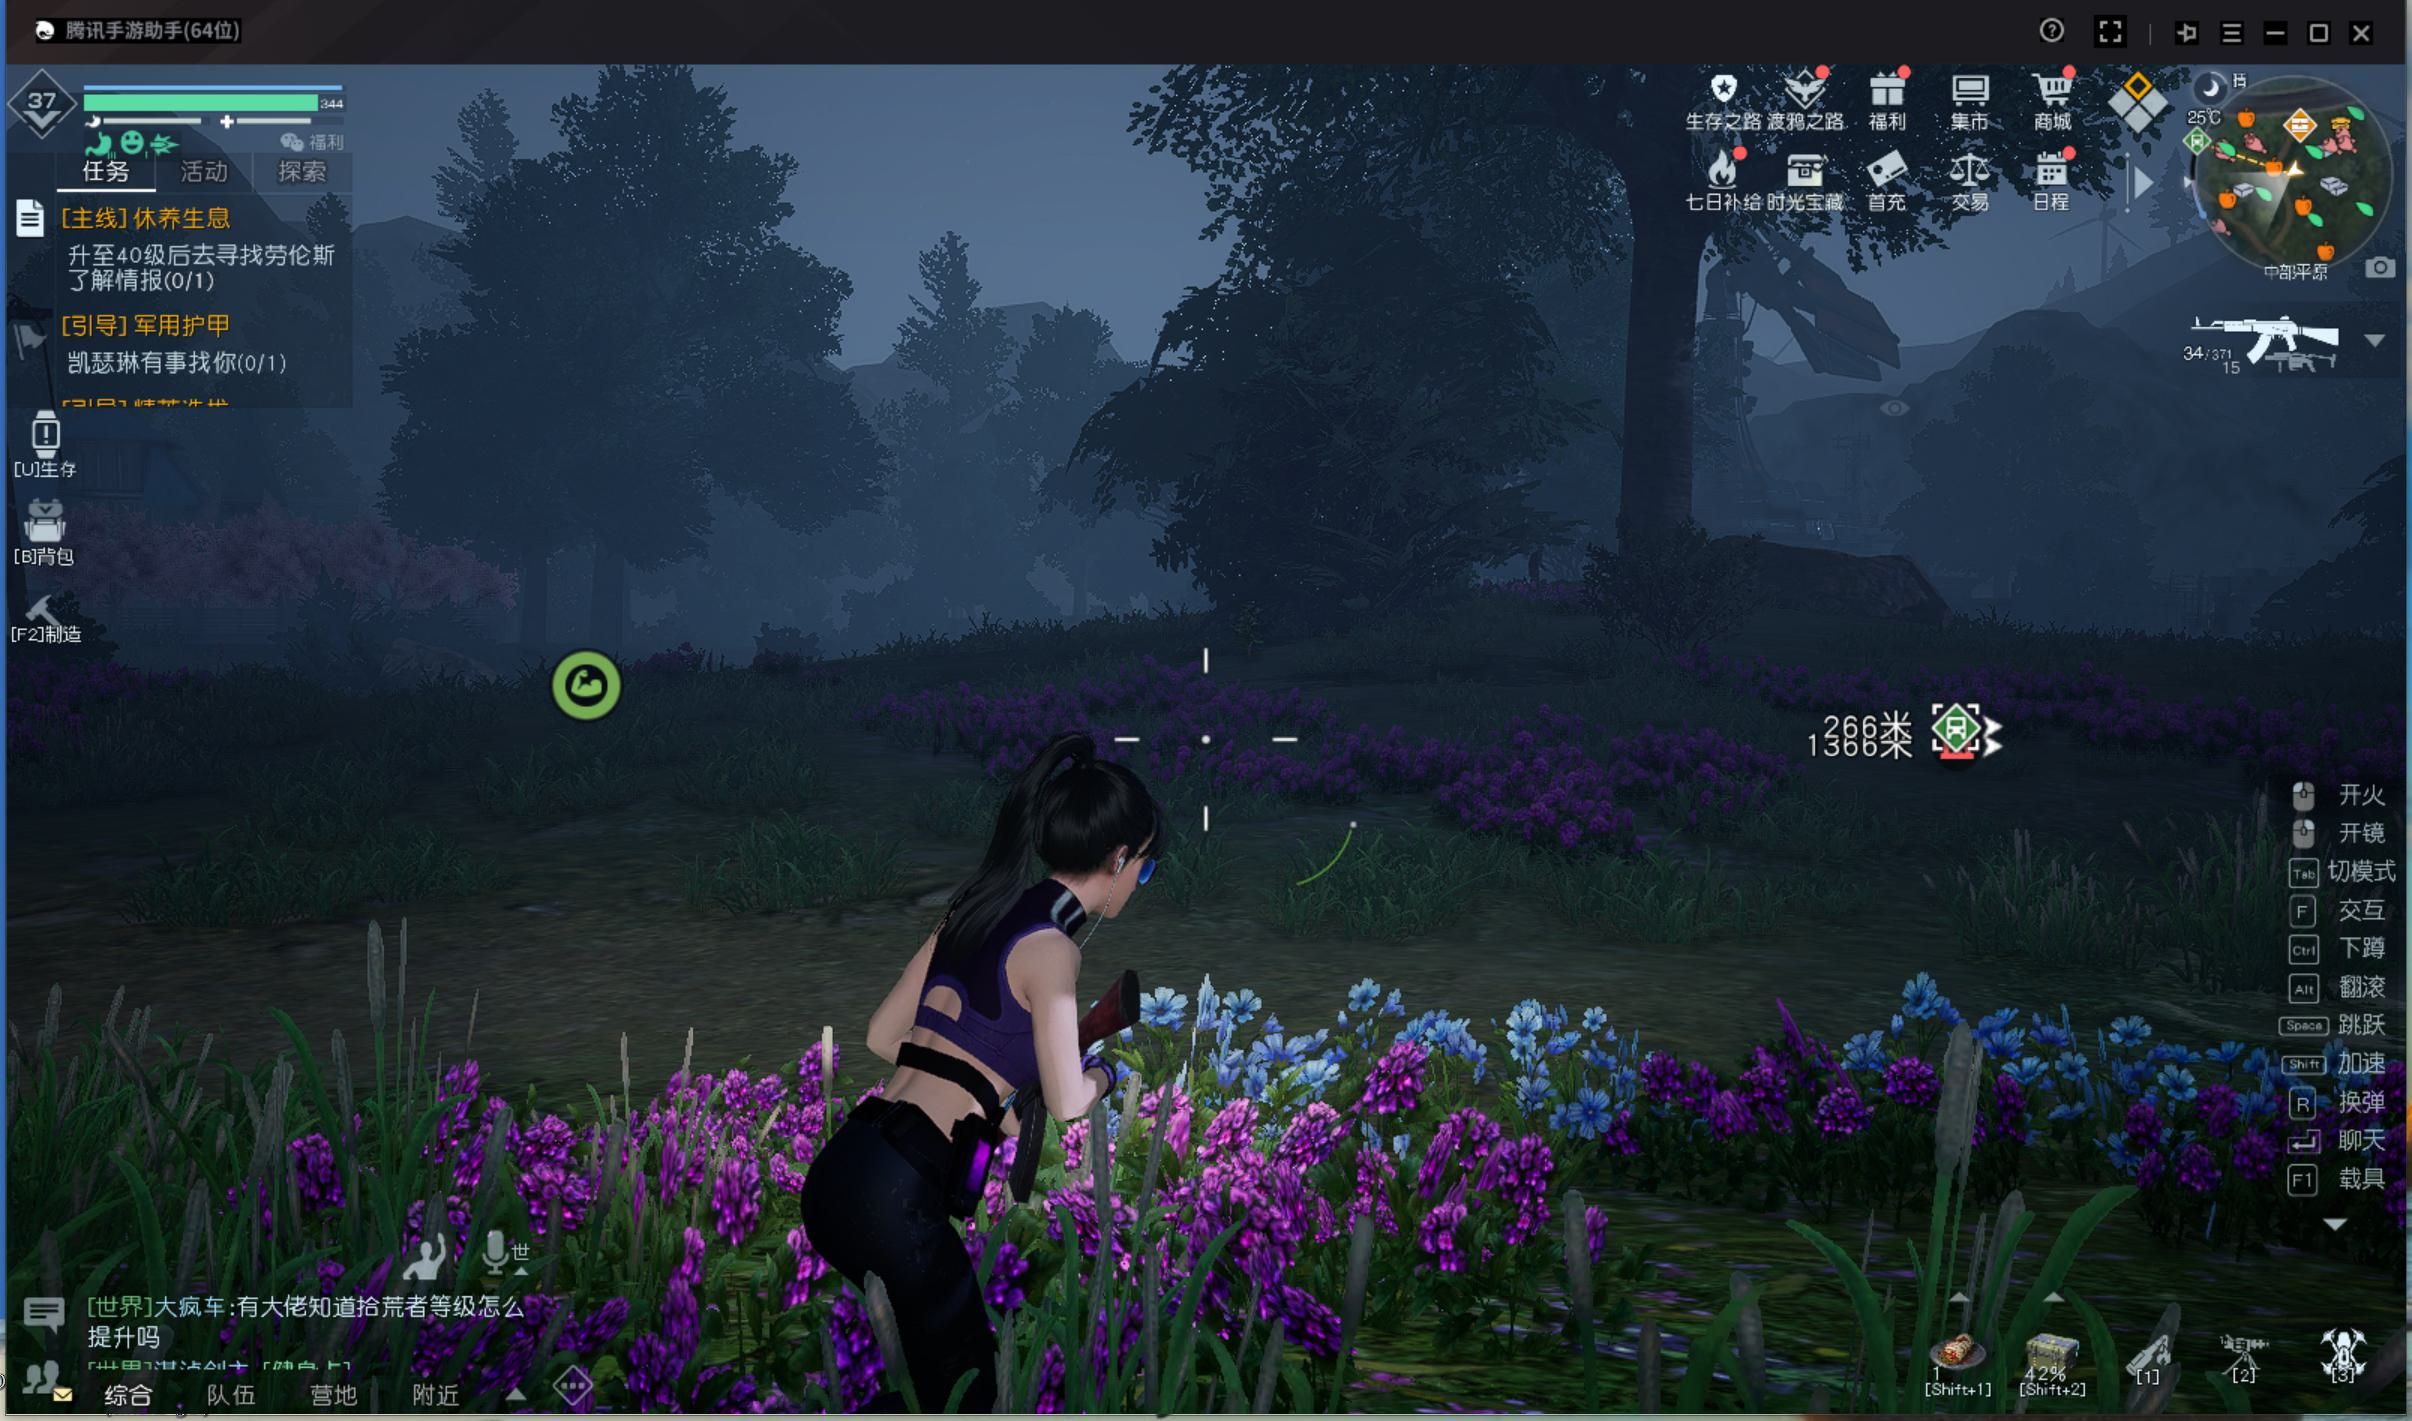tree: (1609, 222, 1698, 634), (584, 557, 634, 660), (514, 562, 555, 670)
